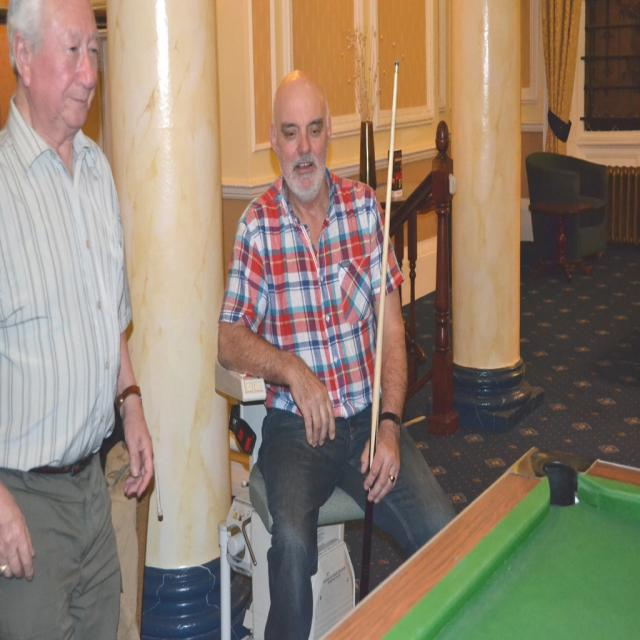Billiard table: (314, 446, 640, 639)
